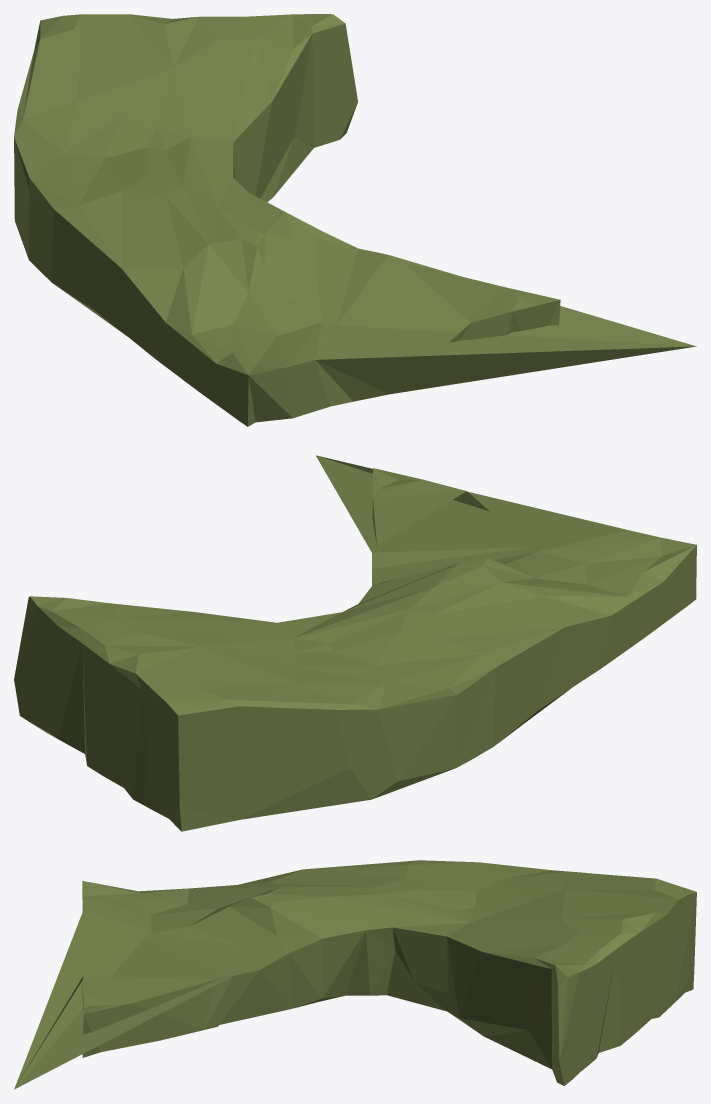
Rendered from ground_color_test_2.gltf.
3 views of the same model, one above another, from view 1: azimuth 30°, elevation 25°; view 2: azimuth 150°, elevation 25°; view 3: azimuth 270°, elevation 25° (orthographic). The views are drawn at different scales.
Visible parts, largest first — view 1: o_ground_5; view 2: o_ground_5; view 3: o_ground_5.
Boxes of the visible parts, <box> form: o_ground_5: <box>14,14,696,426</box>; o_ground_5: <box>14,455,696,831</box>; o_ground_5: <box>14,860,696,1089</box>.
Bounding box in the file's own units: 19.18 × 5.5 × 32.09.
